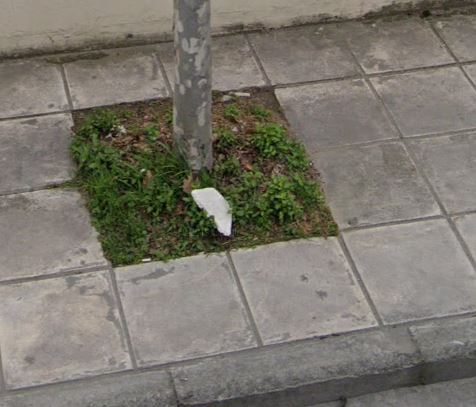trash: (185, 178, 236, 240)
